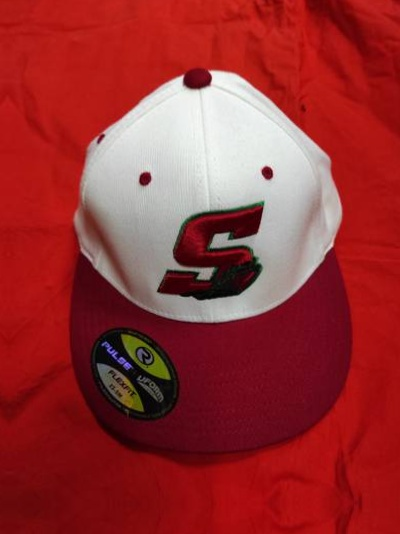Hat: (47, 43, 370, 460)
